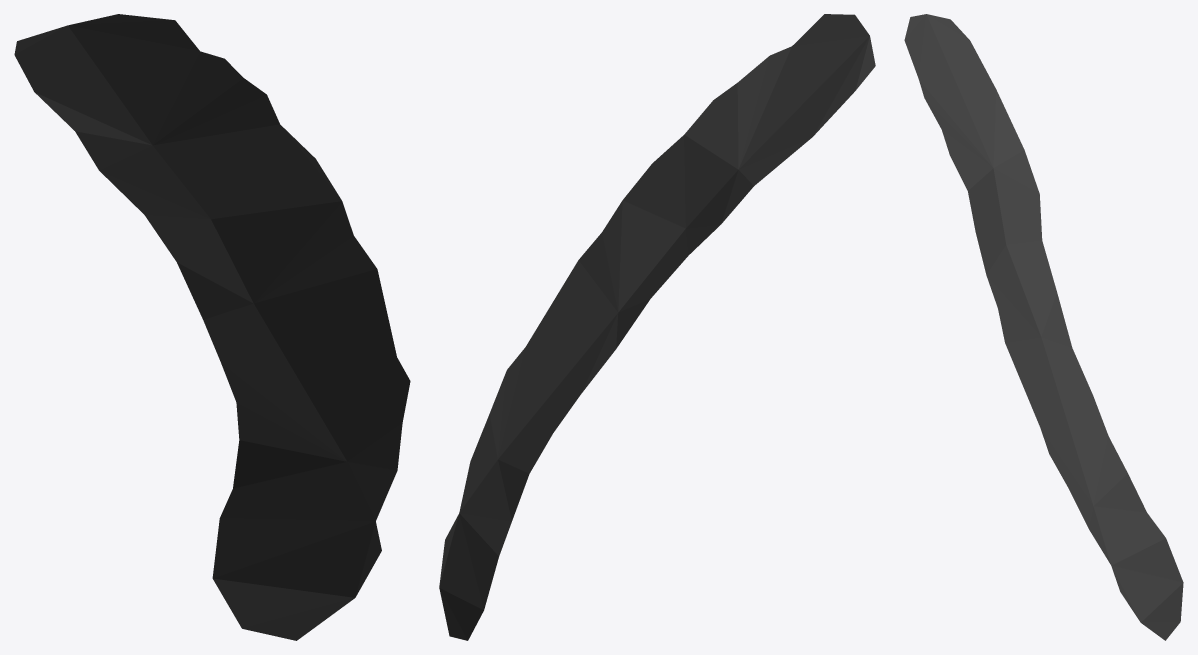
Rendered from A_femoral_L_A_femoral_L.glb.
3 renders of one model, left to right at view 1: azimuth 30°, elevation 25°; view 2: azimuth 150°, elevation 25°; view 3: azimuth 270°, elevation 25°, orthographic. The views are drawn at different scales.
Visible parts, largest first — view 1: A_femoral_L_A_femoral_L; view 2: A_femoral_L_A_femoral_L; view 3: A_femoral_L_A_femoral_L.
Boxes of the visible parts, x1,y1,x2,y2 form: A_femoral_L_A_femoral_L: [14, 14, 410, 640]; A_femoral_L_A_femoral_L: [439, 14, 875, 640]; A_femoral_L_A_femoral_L: [904, 14, 1183, 640].
Size of the model in its own units: 0.00628 by 0.0104 by 0.00514.
Materials: 1 (1 with a texture image).
